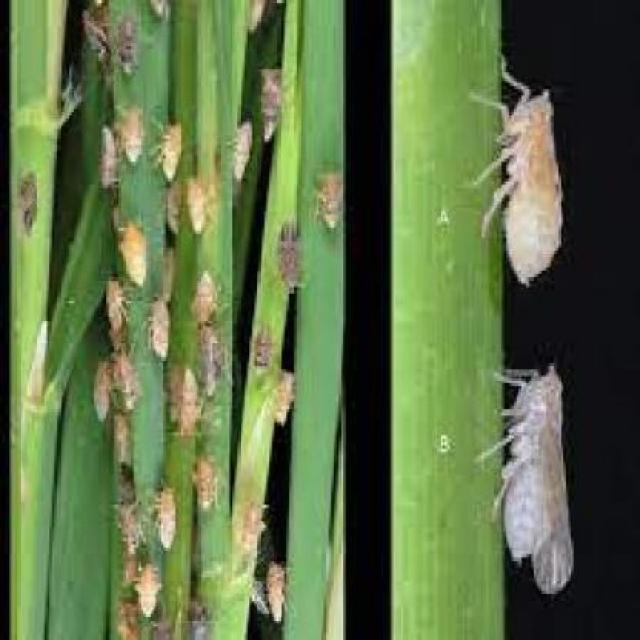brown-planthopper: (501, 370, 574, 585), (499, 82, 563, 284), (119, 224, 152, 291), (278, 226, 308, 296), (312, 169, 341, 236), (155, 490, 182, 556), (172, 369, 199, 433), (261, 67, 282, 141), (232, 123, 257, 182), (98, 122, 120, 189), (103, 277, 128, 334), (161, 120, 185, 178), (121, 103, 142, 168), (118, 7, 139, 70), (194, 268, 218, 323), (194, 457, 218, 511), (266, 566, 288, 623), (152, 301, 173, 359), (275, 372, 300, 420), (135, 567, 159, 615), (239, 504, 263, 550), (249, 328, 271, 378), (115, 359, 138, 406), (188, 178, 206, 230)
